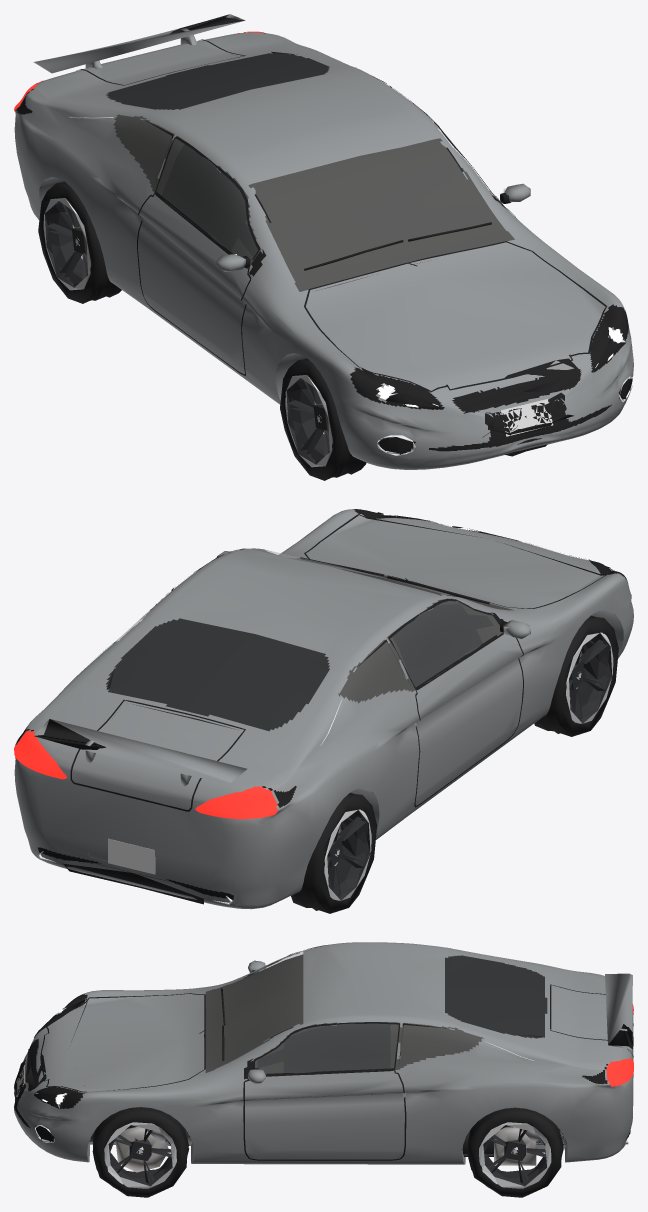
The model's file is coupe-lod1.glb.
3 renders of one model, top to bottom at view 1: azimuth 30°, elevation 25°; view 2: azimuth 150°, elevation 25°; view 3: azimuth 270°, elevation 25°, orthographic. The views are drawn at different scales.
Visible parts, largest first — view 1: Body, HoodSkin, Body_Lining, Panel_FR, Window_FR, Window_FR_Lining, Body_Trim, Wheel_FR_Lip, Wheel_RR_Lip, TrunkSkin, Wheel_FR_Tyre, Wheel_RR_Tyre (+4 smaller); view 2: Body, HoodSkin, Panel_FR, TrunkSkin, Window_FR, Window_FR_Lining, Body_Trim, Spoiler, Body_Lining, Wheel_FR_Lip, Wheel_RR_Lip, Wheel_RR_Tyre (+5 smaller); view 3: Body, HoodSkin, Panel_FL, Body_Lining, Window_FL, Window_FL_Lining, Wheel_FL_Tyre, Wheel_RL_Tyre, Wheel_FL_Lip, Wheel_RL_Lip, TrunkSkin, Spoiler (+5 smaller).
Boxes of the visible parts, x1,y1,x2,y2 form: Body: (14, 32, 633, 469); HoodSkin: (305, 244, 604, 390); Body_Lining: (113, 114, 514, 291); Panel_FR: (139, 195, 249, 373); Window_FR: (157, 137, 258, 263); Window_FR_Lining: (161, 142, 260, 257); Body_Trim: (14, 31, 632, 456); Wheel_FR_Lip: (285, 375, 333, 467); Wheel_RR_Lip: (43, 198, 91, 290); TrunkSkin: (84, 40, 239, 84); Wheel_FR_Tyre: (280, 358, 366, 480); Wheel_RR_Tyre: (38, 181, 121, 303); Body: (14, 509, 633, 909); HoodSkin: (306, 516, 604, 609); Panel_FR: (415, 634, 523, 804); TrunkSkin: (72, 702, 241, 809); Window_FR: (391, 601, 502, 686); Window_FR_Lining: (391, 604, 493, 687); Body_Trim: (14, 512, 616, 904); Spoiler: (33, 719, 246, 783); Body_Lining: (112, 558, 522, 752); Wheel_FR_Lip: (565, 632, 613, 723); Wheel_RR_Lip: (324, 809, 371, 900); Wheel_RR_Tyre: (291, 792, 377, 913); Body: (14, 942, 633, 1164); HoodSkin: (42, 994, 202, 1092); Panel_FL: (245, 1071, 403, 1159); Body_Lining: (205, 954, 483, 1074); Window_FL: (255, 1024, 398, 1074); Window_FL_Lining: (257, 1023, 390, 1072); Wheel_FL_Tyre: (92, 1107, 188, 1197); Wheel_RL_Tyre: (467, 1107, 563, 1197); Wheel_FL_Lip: (104, 1122, 176, 1188); Wheel_RL_Lip: (479, 1122, 551, 1188); TrunkSkin: (552, 986, 633, 1057); Spoiler: (605, 973, 632, 1049).
Size of what is drawn, in the model's own units: 2.04 by 1.34 by 4.5.
